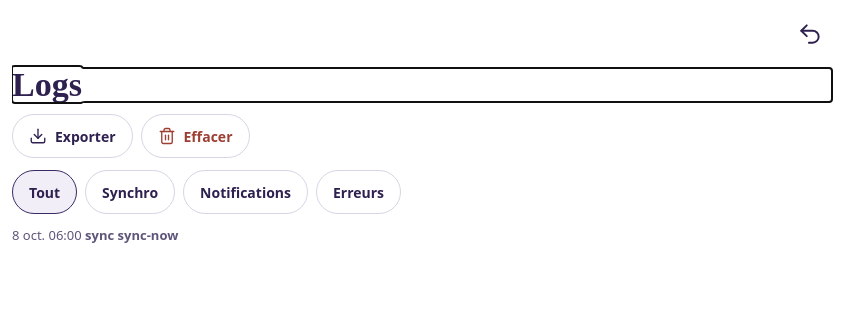
Test case: I-04 / FILES-IOS-01 QA : états d’échec de l’écran Logs › FILES-IOS-01 critère 9 : feuille impossible à présenter (app pas au premier plan) -> message avec code et « Réessayer » qui enregistre ensuite
expect the list is shown: met, box [12,226,178,244]
What coordinates should you click on to do the following:
click the button "Exporter"
I would click on:
 (72, 136)
Its box is [12,114,132,158].
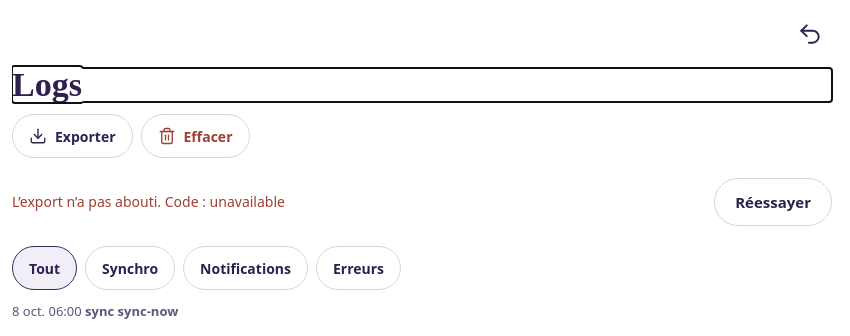
expect the message shows "Code : unavailable": met, box [165,192,285,211]
What coordinates should you click on to do the following:
click the button "Réessayer"
I would click on:
 (773, 202)
Its box is [714,178,832,226].
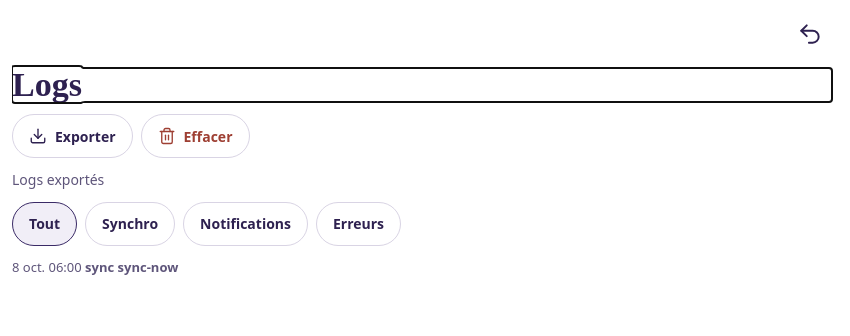
expect the text "Logs exportés" is shown: met, box [12,170,104,189]
